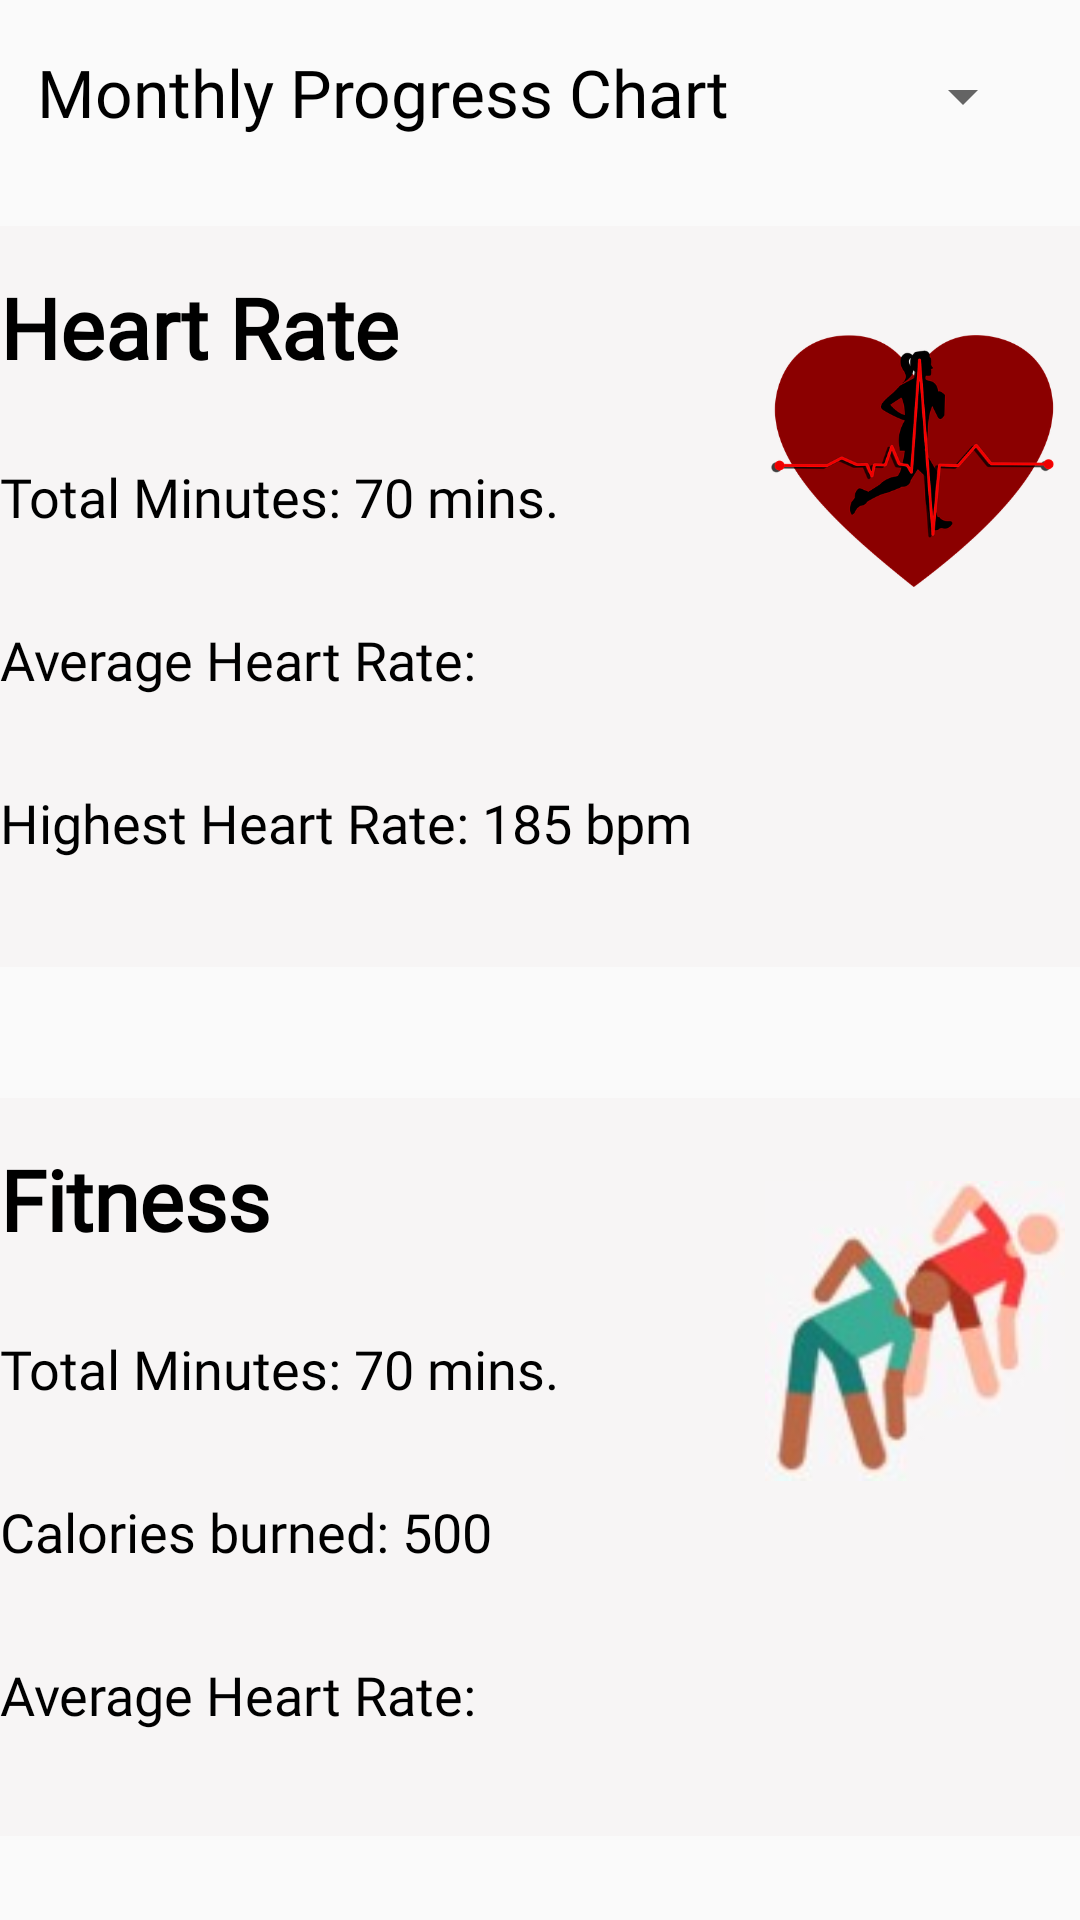

Icon click points for this 1080×1920 phone screenshot, format (x,y):
Fitness Image: (918,1328)
